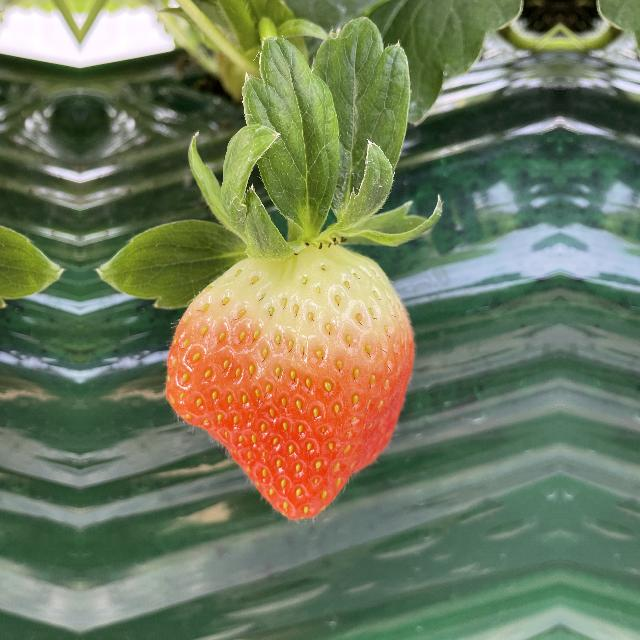Health_100: (141, 238, 417, 530)
